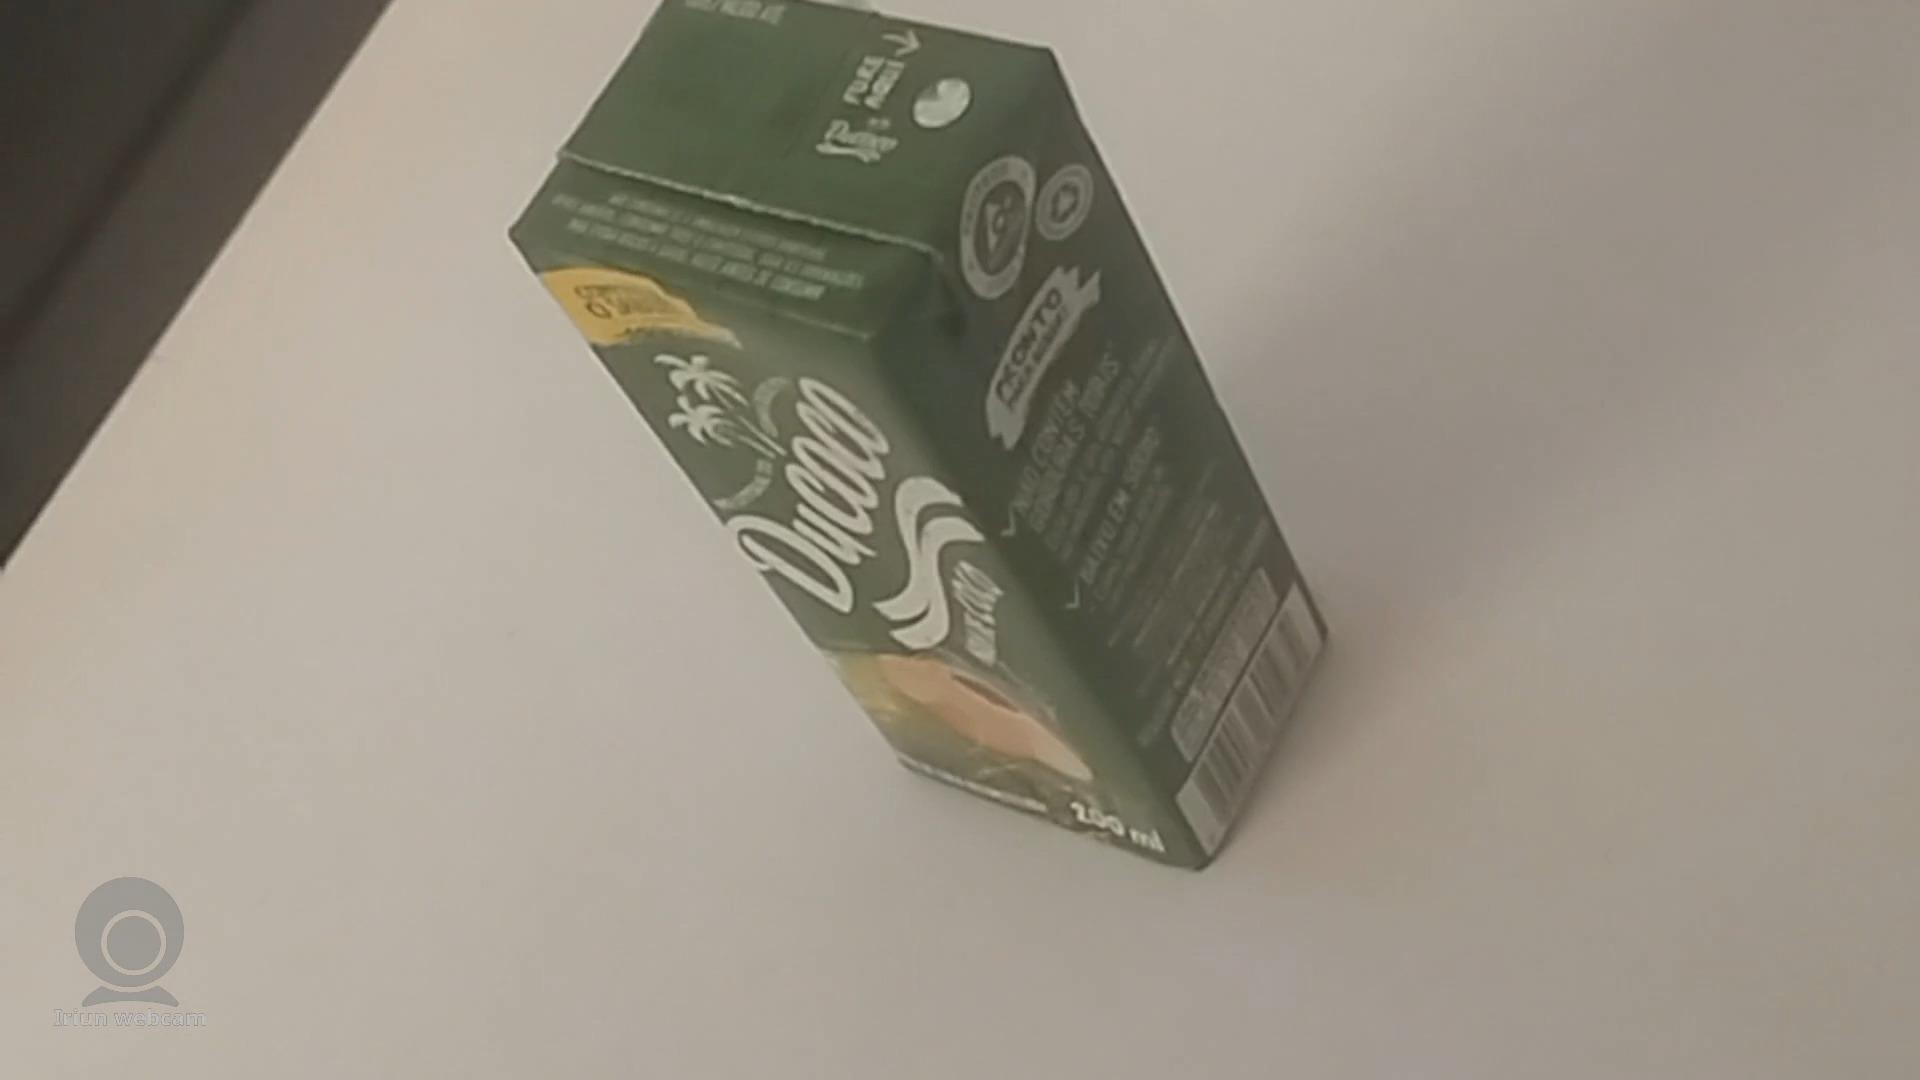coco: (514, 1, 1319, 880)
